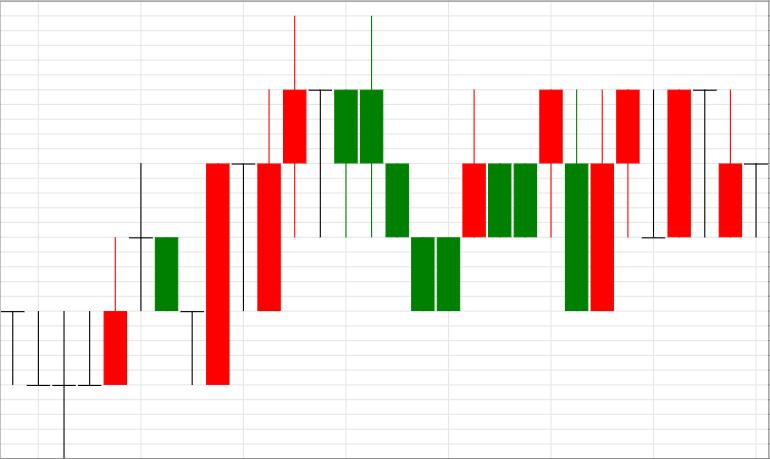evening_star_fall: (206, 16, 358, 385)
